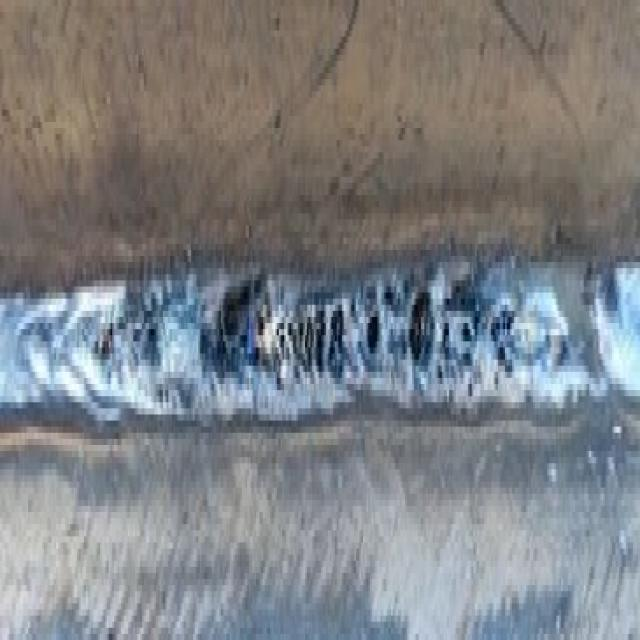Bad Weld: (0, 268, 633, 439)
Defect: (194, 274, 350, 414), (364, 286, 510, 408)
